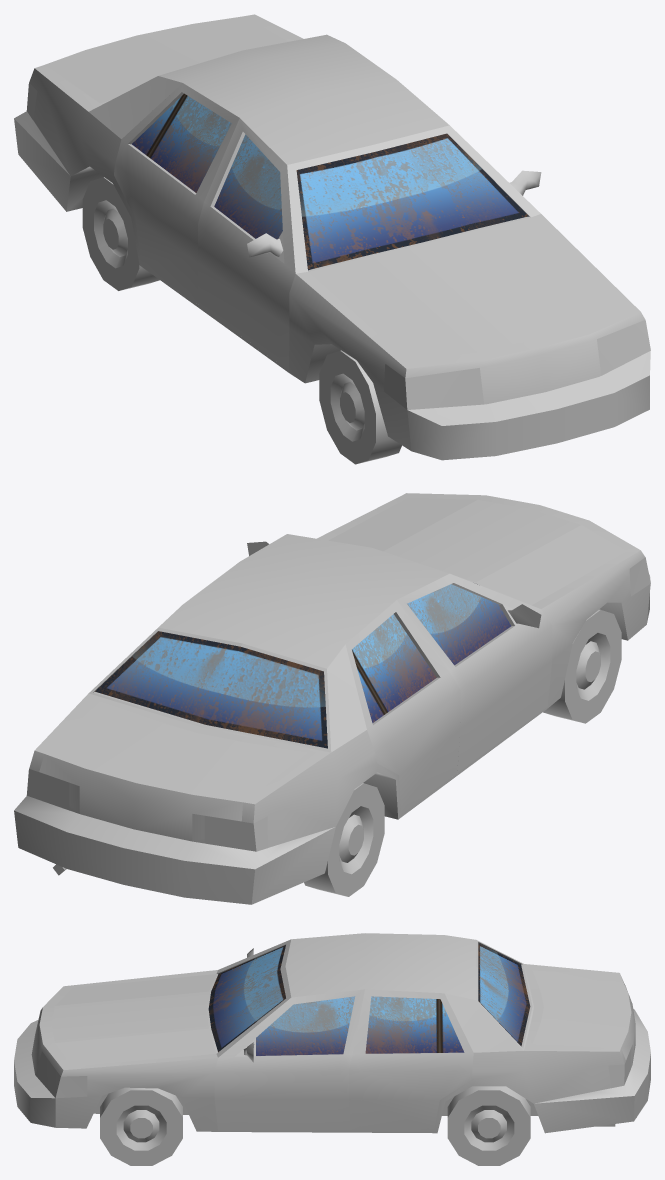
File: Veh_Sedan.FBX
The picture shows the model from 3 angles, top to bottom: view 1: azimuth 30°, elevation 25°; view 2: azimuth 150°, elevation 25°; view 3: azimuth 270°, elevation 25°; orthographic projection. The views are drawn at different scales.
Parts seen in each view (by area): view 1: Veh_Sedan, hood, glass_windshieldFront, door_frontR, door_backR, trunk, wheel_frontR, glass_backR, wheel_backR, glass_frontR, light_frontR, light_frontL; view 2: Veh_Sedan, trunk, hood, glass_windshieldRear, door_frontR, door_backR, wheel_frontR, glass_backR, wheel_backR, glass_frontR, light_rearR, light_rearL; view 3: Veh_Sedan, door_frontL, hood, door_backL, trunk, wheel_backL, wheel_frontL, glass_windshieldFront, glass_backL, glass_frontL, glass_windshieldRear, light_frontL (+1 smaller).
Part boxes in pixels (<box>): Veh_Sedan: <box>14,14,650,460</box>; hood: <box>308,217,626,360</box>; glass_windshieldFront: <box>296,133,528,270</box>; door_frontR: <box>198,118,295,370</box>; door_backR: <box>114,83,239,304</box>; trunk: <box>45,16,288,103</box>; wheel_frontR: <box>319,350,401,464</box>; glass_backR: <box>132,93,231,192</box>; wheel_backR: <box>82,177,159,290</box>; glass_frontR: <box>214,134,282,239</box>; light_frontR: <box>383,364,484,409</box>; light_frontL: <box>597,320,650,375</box>; Veh_Sedan: <box>14,493,650,904</box>; trunk: <box>39,701,307,841</box>; hood: <box>328,498,626,605</box>; glass_windshieldRear: <box>95,631,327,748</box>; door_frontR: <box>397,573,552,772</box>; door_backR: <box>345,600,460,813</box>; wheel_frontR: <box>543,609,621,723</box>; glass_backR: <box>352,614,436,722</box>; wheel_backR: <box>304,783,384,896</box>; glass_frontR: <box>407,584,511,665</box>; light_rearR: <box>204,816,267,851</box>; light_rearL: <box>26,769,69,810</box>; Veh_Sedan: <box>14,933,650,1133</box>; door_frontL: <box>214,989,364,1130</box>; hood: <box>51,974,216,1065</box>; door_backL: <box>348,989,473,1130</box>; trunk: <box>532,970,635,1062</box>; wheel_backL: <box>447,1086,530,1165</box>; wheel_frontL: <box>100,1087,182,1165</box>; glass_windshieldFront: <box>208,945,285,1052</box>; glass_backL: <box>365,996,464,1053</box>; glass_frontL: <box>256,996,355,1055</box>; glass_windshieldRear: <box>478,943,530,1046</box>; light_frontL: <box>35,1051,87,1098</box>.
Size of the model in its own units: 206 by 150 by 526.
